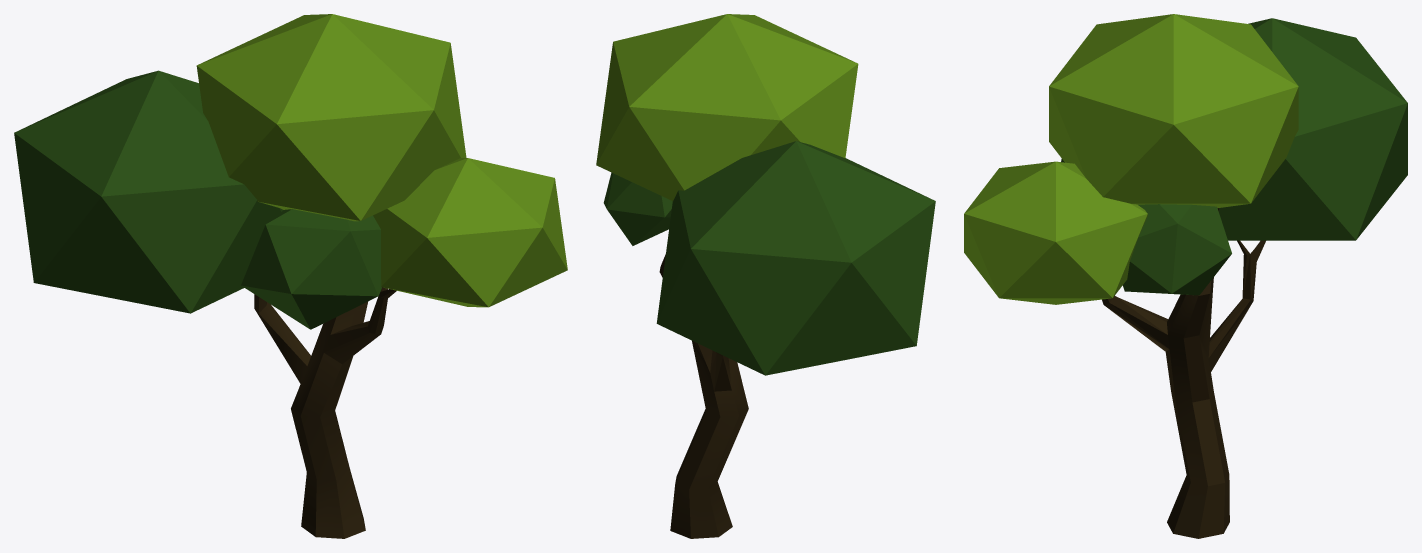
File: tree1.fbx
3 renders of one model, left to right at view 1: azimuth 30°, elevation 25°; view 2: azimuth 150°, elevation 25°; view 3: azimuth 270°, elevation 25°, orthographic. The views are drawn at different scales.
Parts seen in each view (by area): view 1: GeoSphere003, GeoSphere001, GeoSphere002, Cylinder001, GeoSphere005; view 2: GeoSphere003, GeoSphere001, Cylinder001, GeoSphere004; view 3: GeoSphere001, GeoSphere003, GeoSphere002, Cylinder001, GeoSphere004.
Boxes of the visible parts, bbox=[...] form: GeoSphere003: bbox=[14, 70, 282, 313]; GeoSphere001: bbox=[196, 14, 466, 221]; GeoSphere002: bbox=[373, 158, 567, 307]; Cylinder001: bbox=[254, 287, 396, 538]; GeoSphere005: bbox=[241, 209, 382, 329]; GeoSphere003: bbox=[656, 141, 935, 375]; GeoSphere001: bbox=[596, 14, 858, 200]; Cylinder001: bbox=[659, 254, 748, 538]; GeoSphere004: bbox=[603, 172, 672, 245]; GeoSphere001: bbox=[1049, 14, 1298, 207]; GeoSphere003: bbox=[1219, 18, 1407, 240]; GeoSphere002: bbox=[964, 161, 1147, 304]; Cylinder001: bbox=[1102, 208, 1265, 538]; GeoSphere004: bbox=[1123, 204, 1231, 295].
Size of the model in its own units: 606 by 743 by 593.
